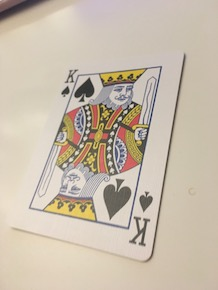KingOfSpades: (9, 50, 201, 263)
